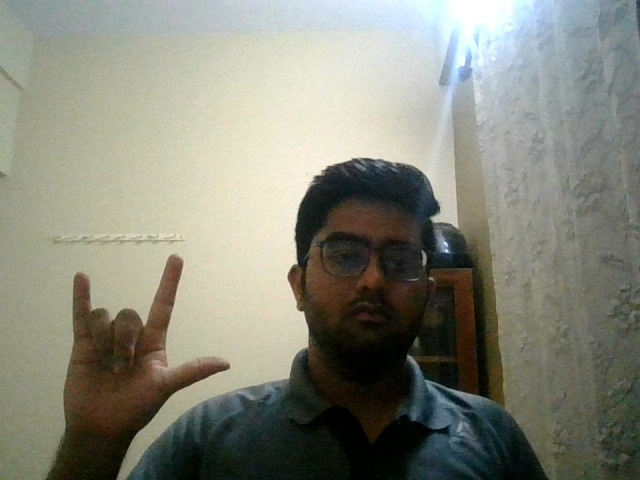I Love You: (50, 251, 241, 444)
